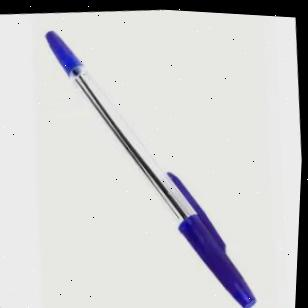pen-pencil: (45, 29, 254, 307)
